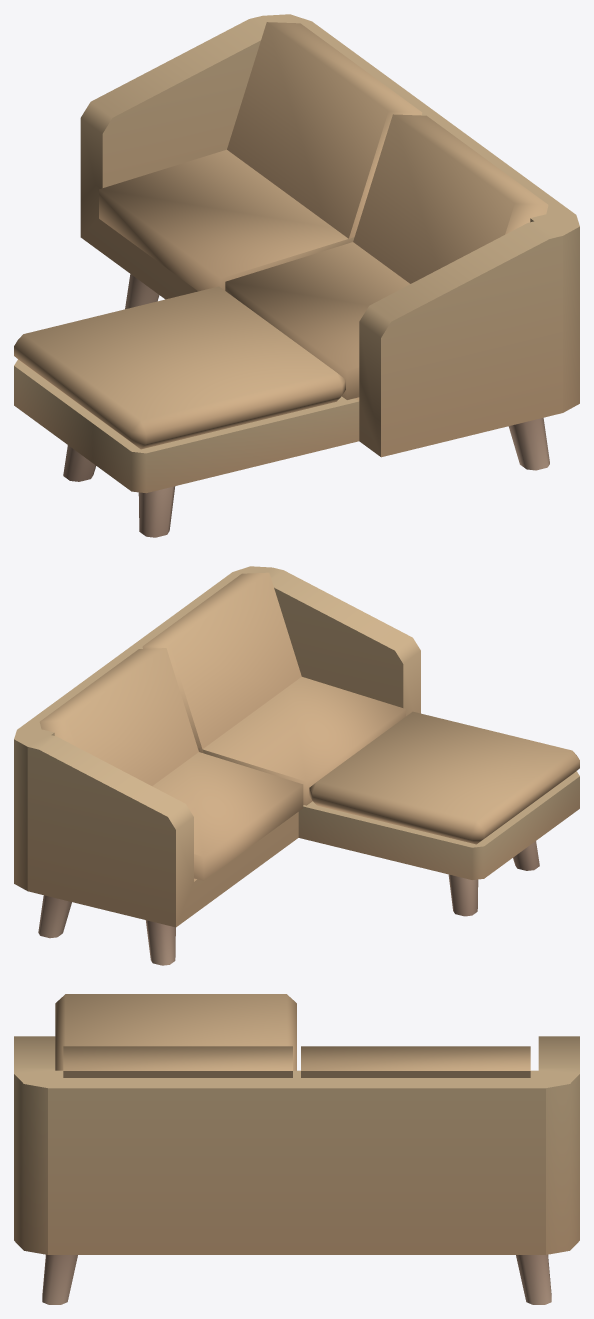
File: vegas-sofa-lounge.glb
3 views of the same model, one above another, from view 1: azimuth 30°, elevation 25°; view 2: azimuth 150°, elevation 25°; view 3: azimuth 270°, elevation 25° (orthographic). The views are drawn at different scales.
Parts seen in each view (by area): view 1: vegas-sofa-lounge; view 2: vegas-sofa-lounge; view 3: vegas-sofa-lounge.
Part boxes in pixels (<box>): vegas-sofa-lounge: <box>14,14,579,537</box>; vegas-sofa-lounge: <box>14,566,579,965</box>; vegas-sofa-lounge: <box>14,994,579,1304</box>.
Size of the model in its own units: 1.17 by 0.6688 by 1.4.
